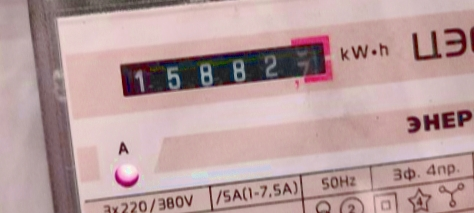1: (130, 67, 146, 96)
2: (260, 53, 279, 82)
5: (162, 64, 182, 93)
7: (293, 59, 310, 78)
8: (194, 61, 213, 91), (228, 57, 246, 86)
screen: (103, 27, 343, 113)
